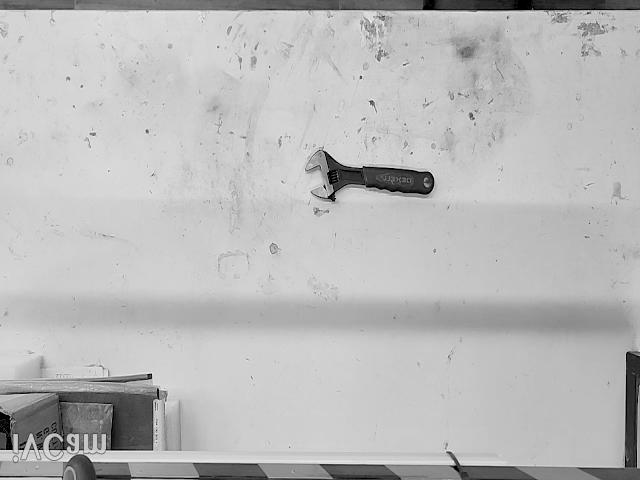Adjustable spanner: (305, 150, 435, 202)
